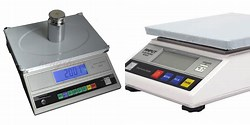Industrial Scale: (123, 9, 250, 111), (2, 11, 120, 116)
